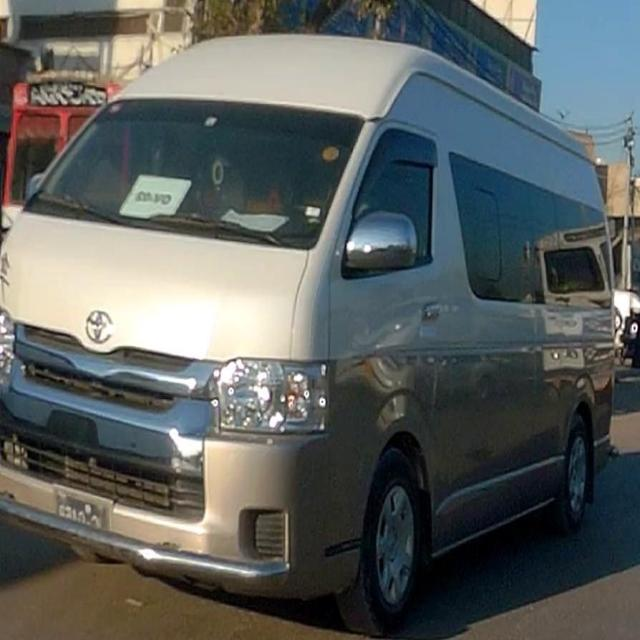Van: (0, 30, 626, 640)
